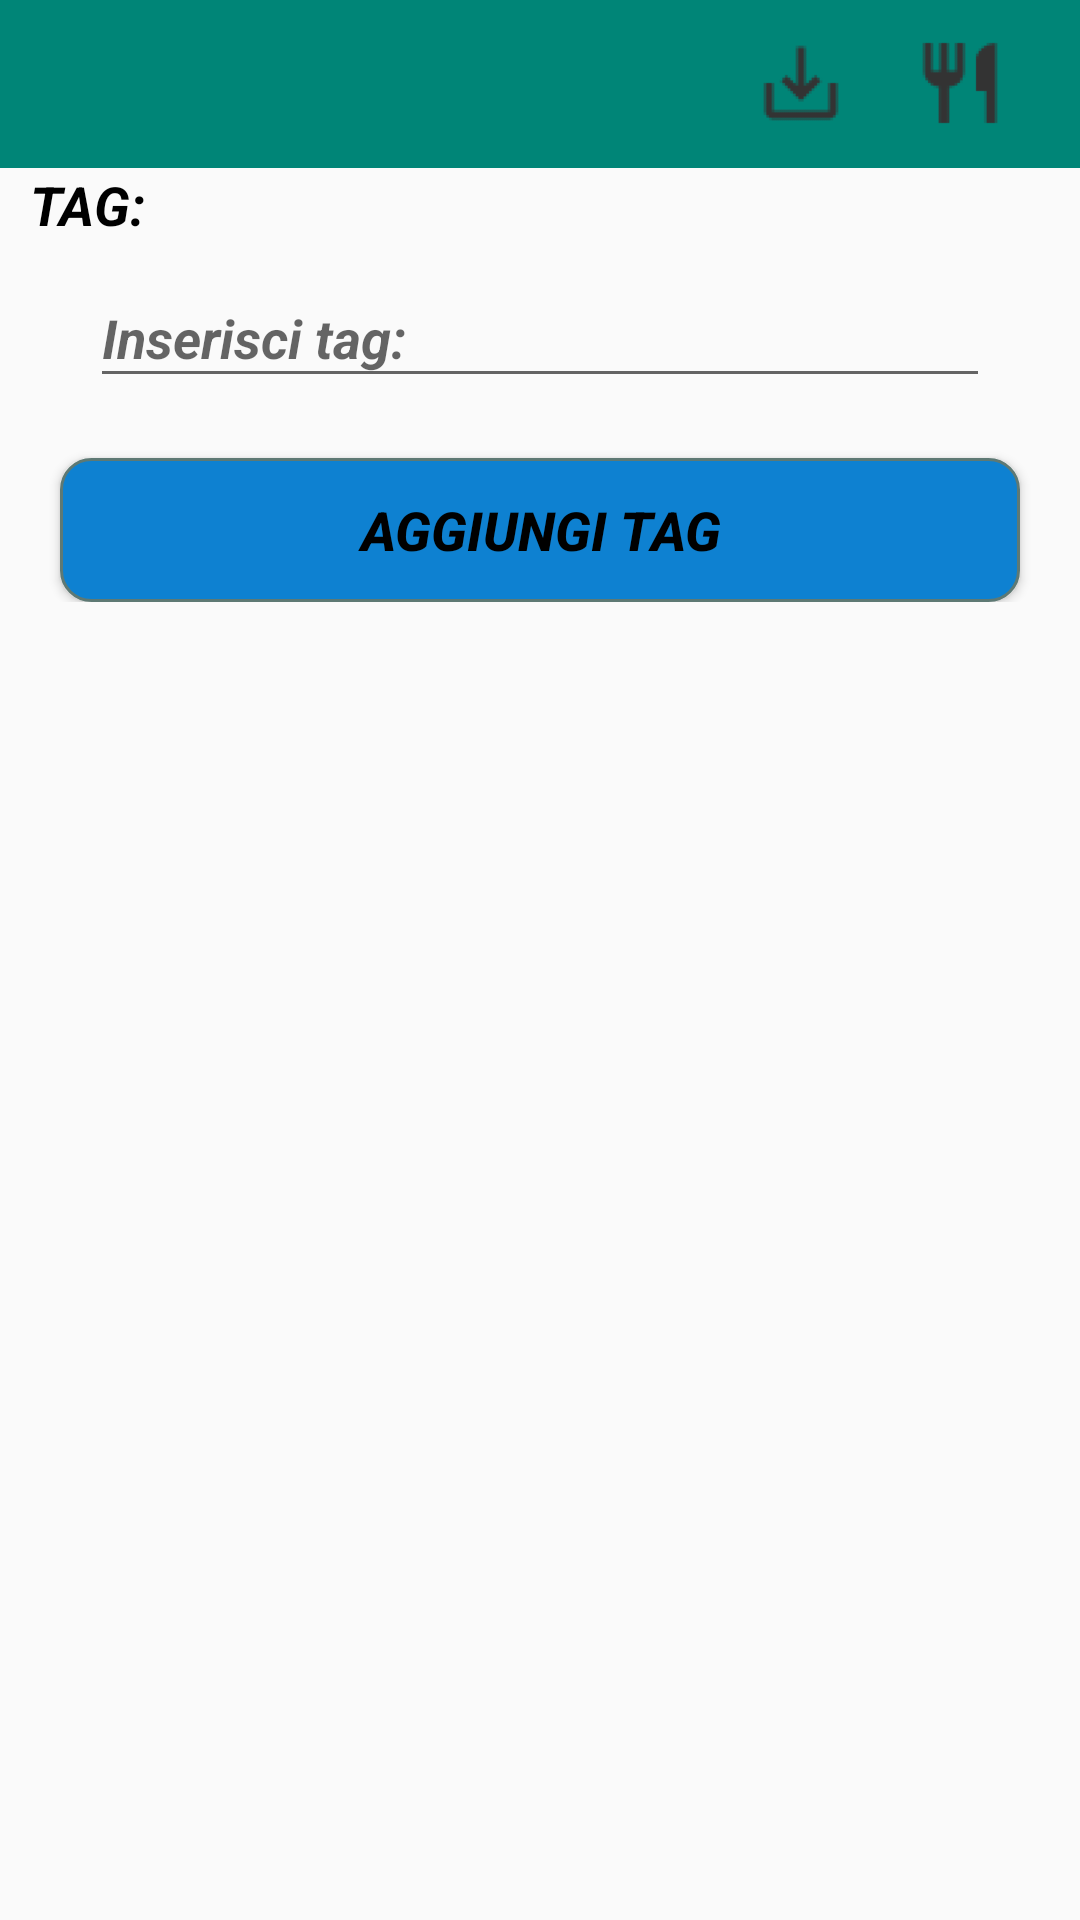

Point at icon controls on the screen. Image size 1080×1920, points as (x,y).
save: (801,83)
